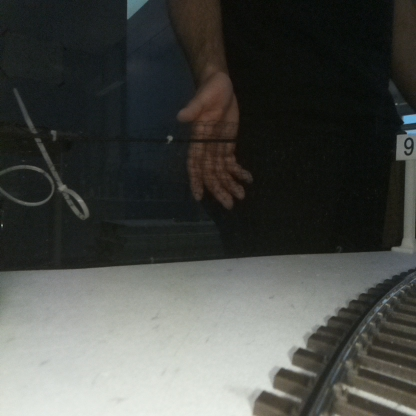white-info-9: (397, 135, 416, 251)
